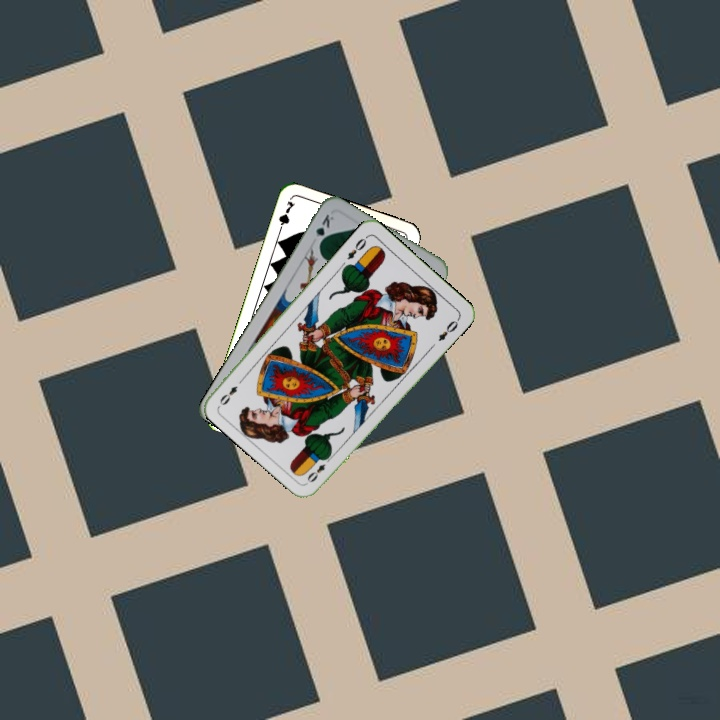EO: (303, 452, 335, 485), (343, 232, 370, 262)
G7: (274, 197, 298, 236)
GK: (311, 210, 337, 249)
